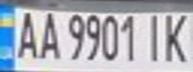0: (100, 12, 121, 62)
1: (118, 11, 142, 63)
9: (81, 11, 103, 62), (63, 11, 84, 62)
A: (9, 8, 42, 61), (33, 9, 63, 61)
I: (139, 11, 169, 63)
K: (160, 10, 193, 64)
